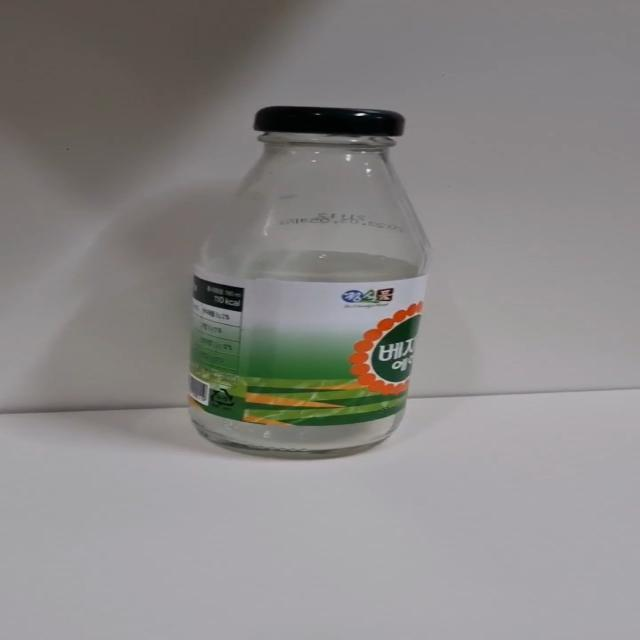Glass: (188, 95, 432, 457)
